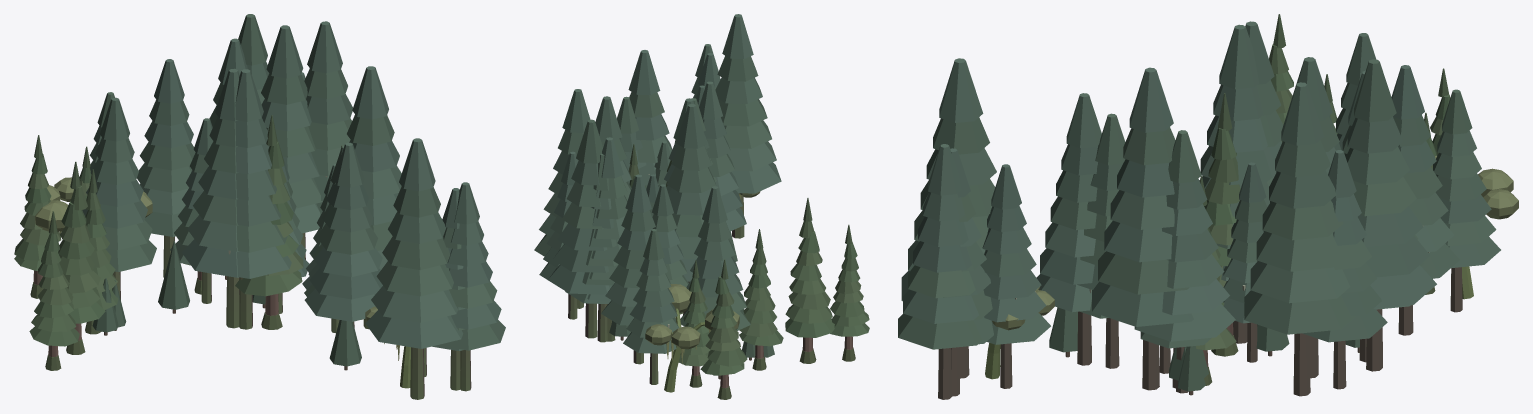
The model's file is Mist_Forest_3_1.fbx.
3 views of the same model, side by side, from view 1: azimuth 30°, elevation 25°; view 2: azimuth 150°, elevation 25°; view 3: azimuth 270°, elevation 25° (orthographic). The views are drawn at different scales.
Visible parts, largest first — view 1: Mist_Forest_3_1; view 2: Mist_Forest_3_1; view 3: Mist_Forest_3_1.
Boxes of the visible parts, x1,y1,x2,y2 form: Mist_Forest_3_1: (14, 14, 505, 399); Mist_Forest_3_1: (534, 14, 869, 399); Mist_Forest_3_1: (898, 14, 1518, 399).
Bounding box in the file's own units: 35.86 × 25.43 × 43.89.
